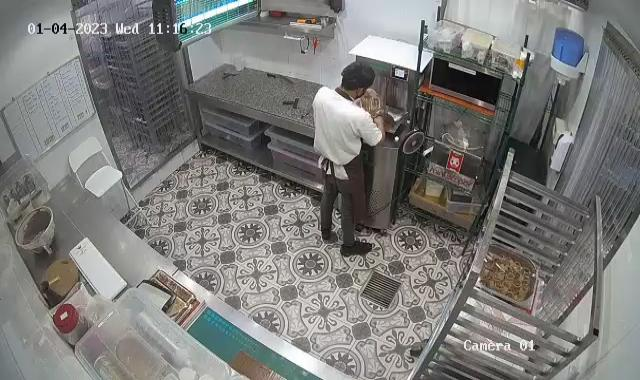no_hairnet: (341, 60, 376, 97)
